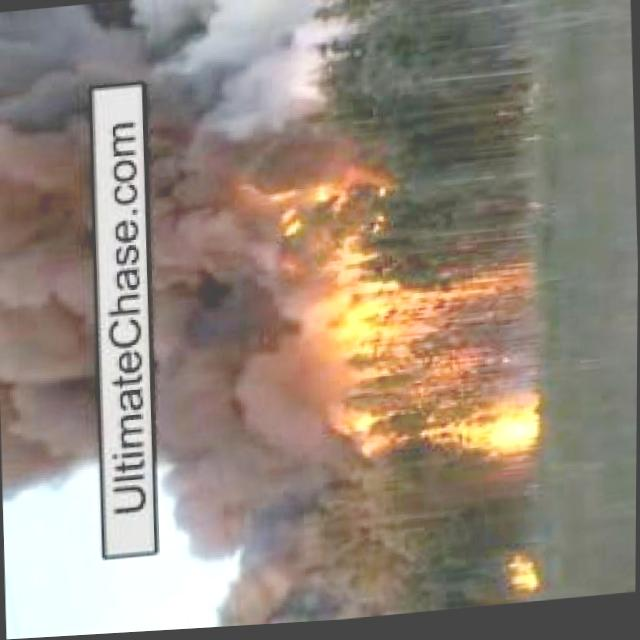helmet: (295, 266, 546, 474), (263, 166, 385, 239), (500, 557, 543, 596)
no_helmet: (137, 0, 290, 633), (0, 3, 101, 503)
